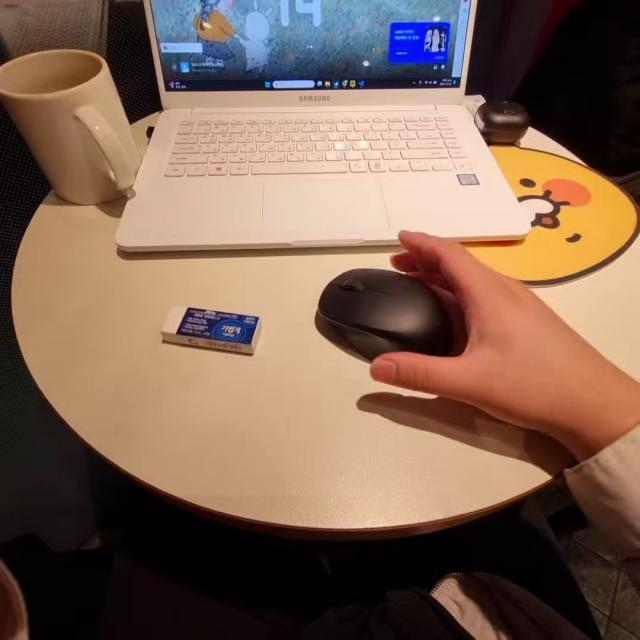eraser: (163, 297, 266, 358)
grab_mouse: (336, 224, 556, 426)
